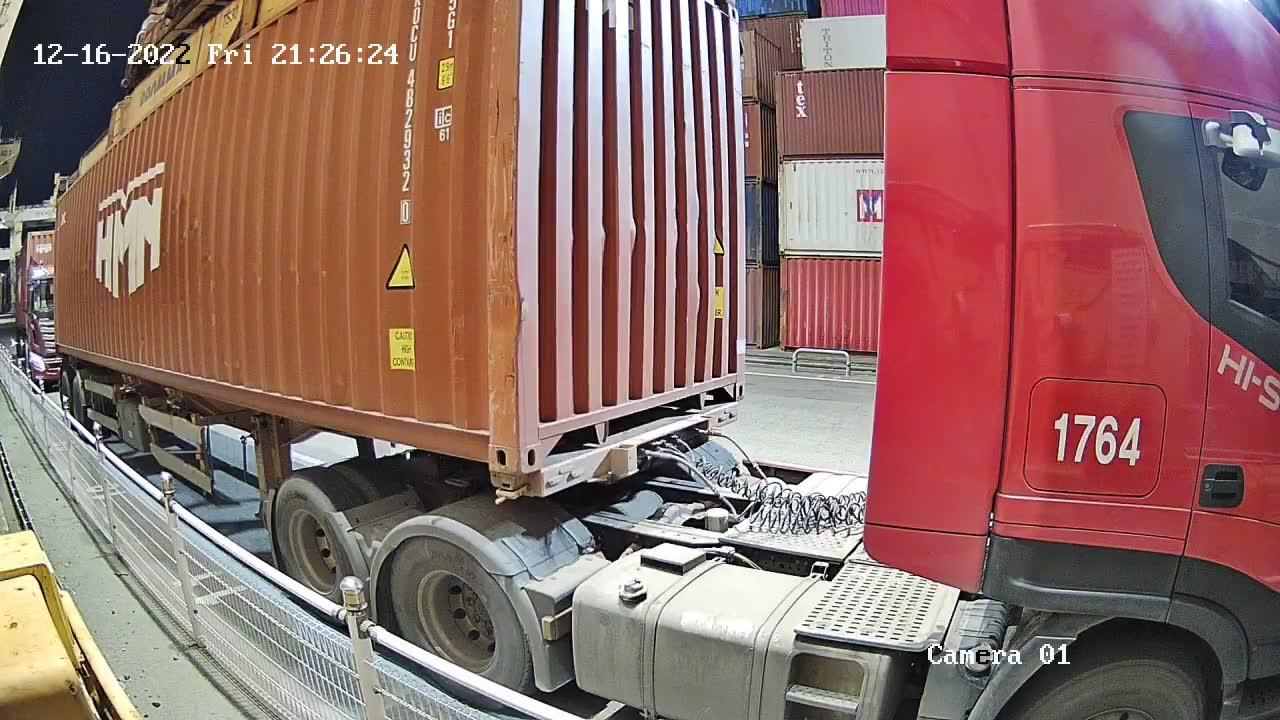Chassis: (522, 405, 741, 494)
Cone: (490, 472, 523, 500)
Hole_L: (517, 391, 573, 472)
Hole_R: (453, 401, 520, 472), (702, 348, 749, 412)
Tire: (388, 536, 527, 693), (273, 479, 352, 601)
